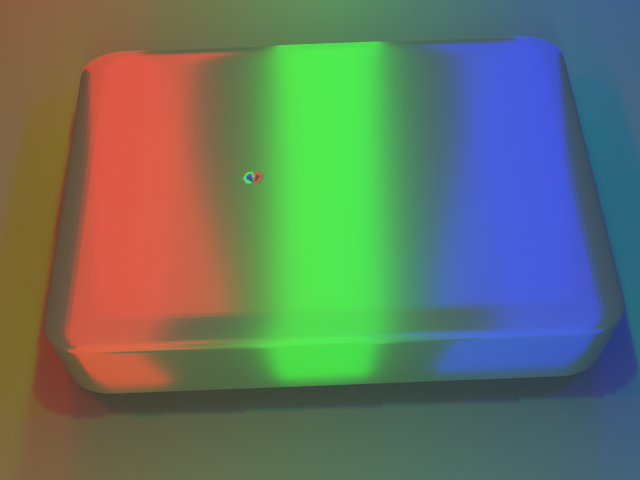dent: (228, 155, 265, 194)
